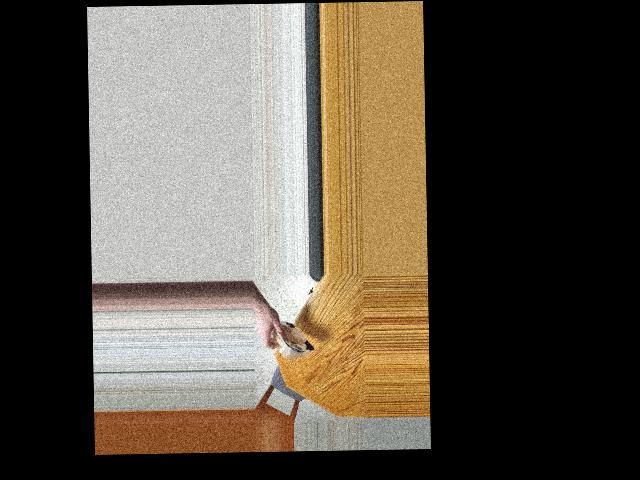cheese: (272, 308, 314, 366)
